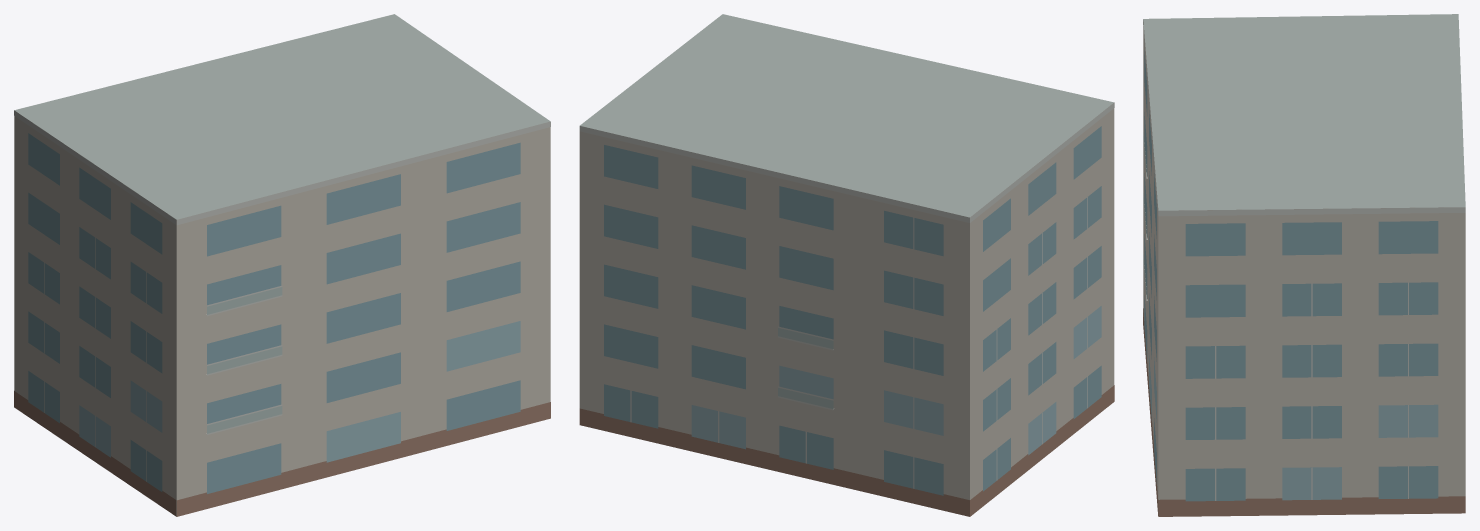
The model's file is survey-upis-32549396.glb.
3 views of the same model, side by side, from view 1: azimuth 30°, elevation 25°; view 2: azimuth 150°, elevation 25°; view 3: azimuth 270°, elevation 25° (orthographic). The views are drawn at different scales.
Visible parts, largest first — view 1: survey-upis-32549396.tmp; view 2: survey-upis-32549396.tmp; view 3: survey-upis-32549396.tmp.
Boxes of the visible parts, x1,y1,x2,y2 form: survey-upis-32549396.tmp: [14, 14, 550, 516]; survey-upis-32549396.tmp: [579, 14, 1114, 516]; survey-upis-32549396.tmp: [1143, 14, 1465, 516].
Size of the model in its own units: 18.06 by 13.1 by 12.51.
